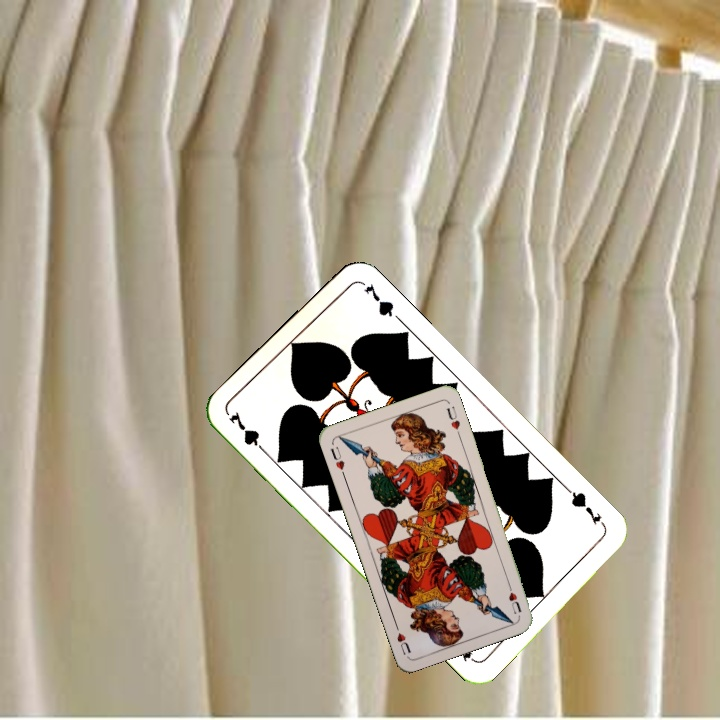G7: (224, 407, 271, 458), (562, 484, 609, 531)
HU: (503, 578, 524, 617), (326, 443, 348, 479)
